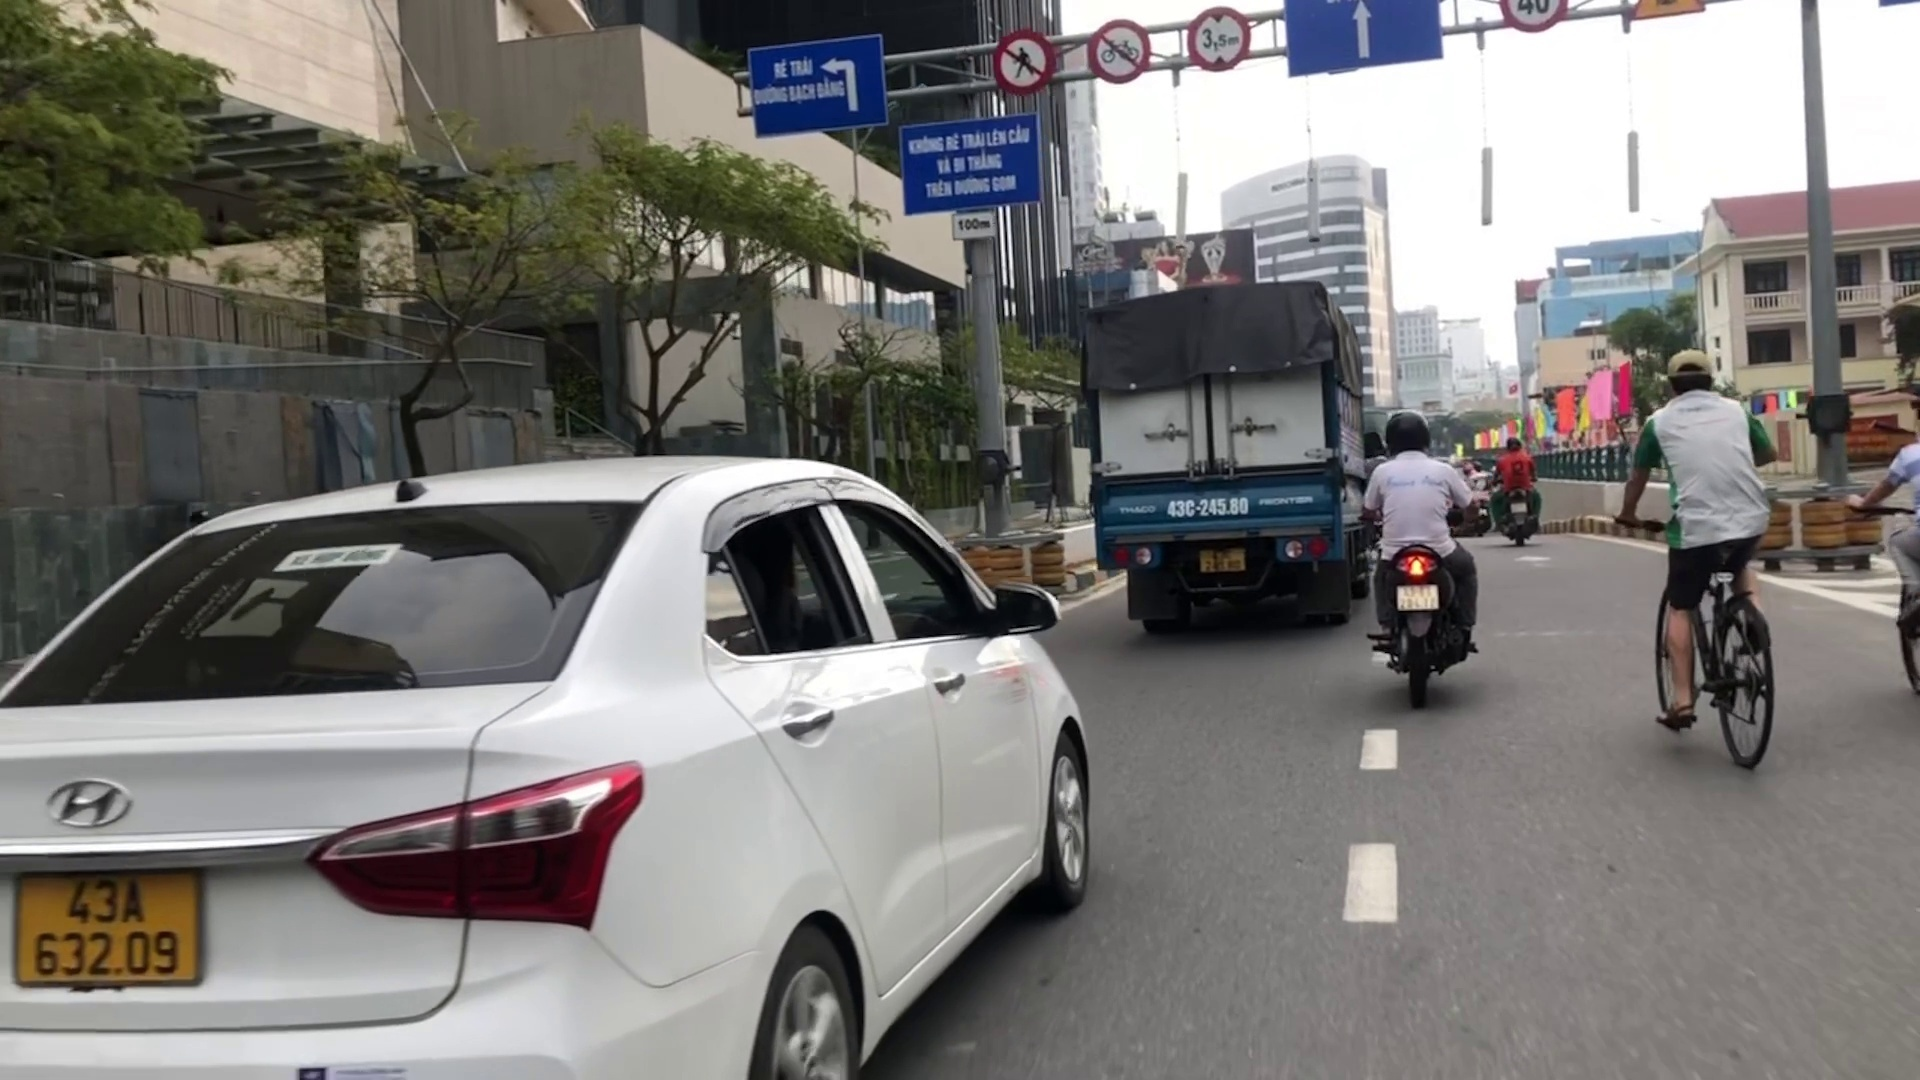Bien khac: (1087, 18, 1149, 86)
